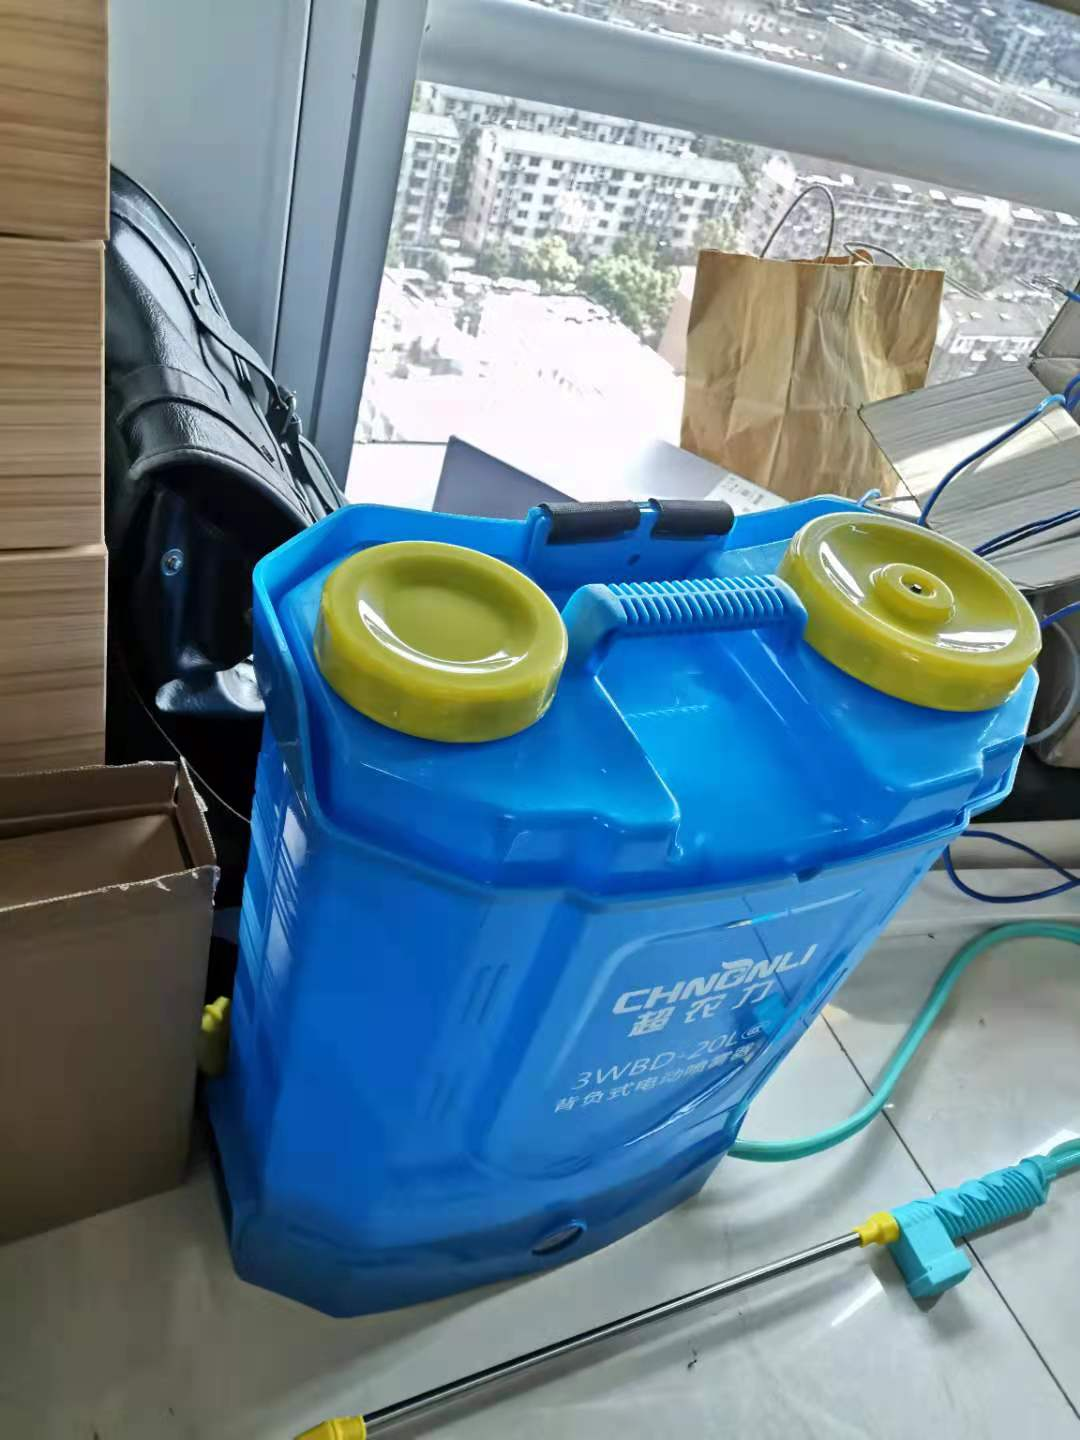berrl: (191, 488, 1058, 1327)
